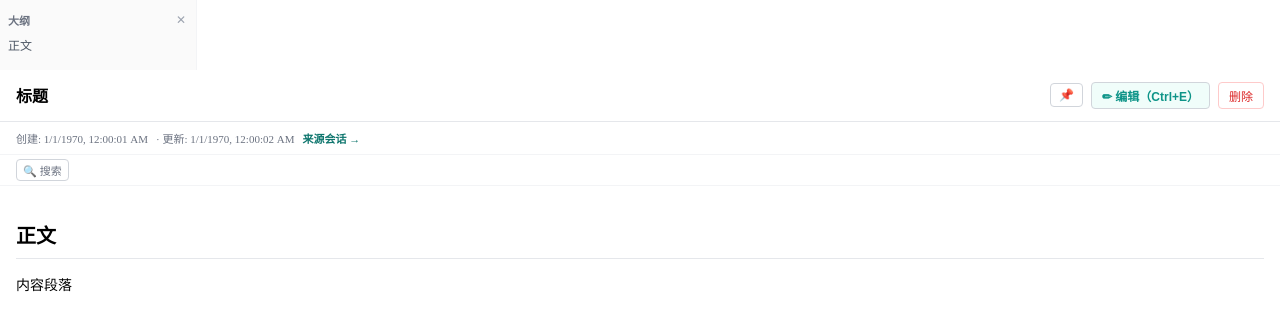
Test: 阅读态正文选区右键菜单（批 8 REQ-317） › 进编辑再退出（Ctrl+E→ESC 往返）：旧菜单不复活——状态随 editing 失效（审查 P2-12）
Right-click the text "内容段落" at (44, 285), box [16, 278, 72, 293]
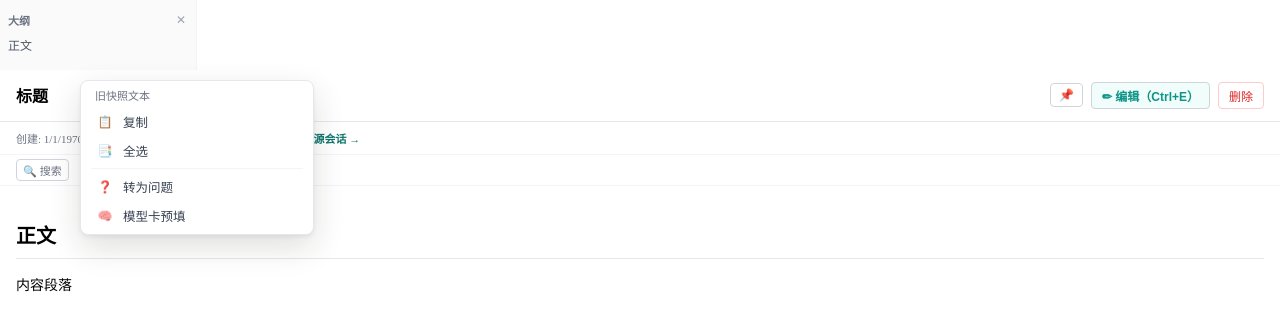
Expected: the menu with test id "note-sel-menu" is shown, [80, 80, 314, 235]
